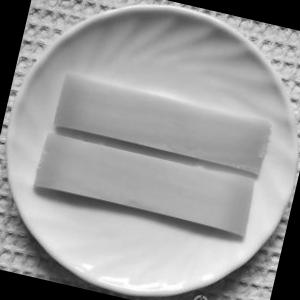cheese: (6, 42, 296, 252)
